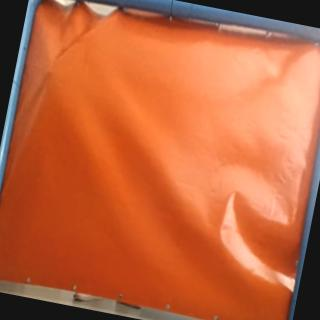Hit-hRxx: (42, 64, 56, 78)
